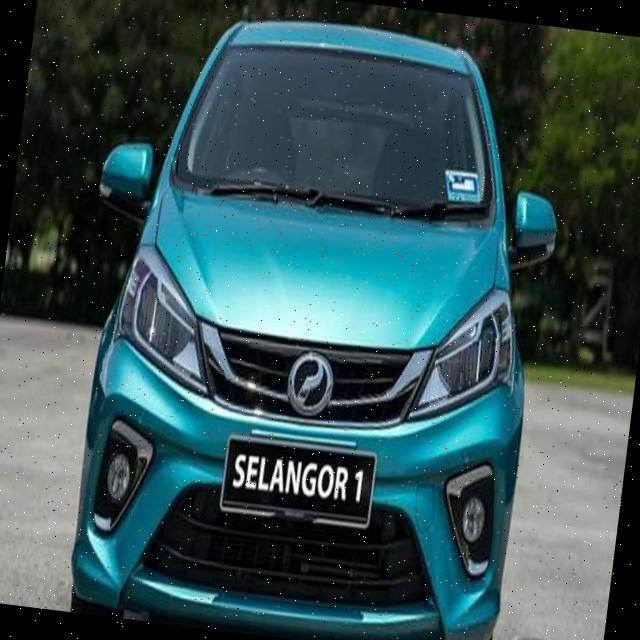License_Plate: (208, 422, 400, 549)
car: (41, 1, 587, 640)
